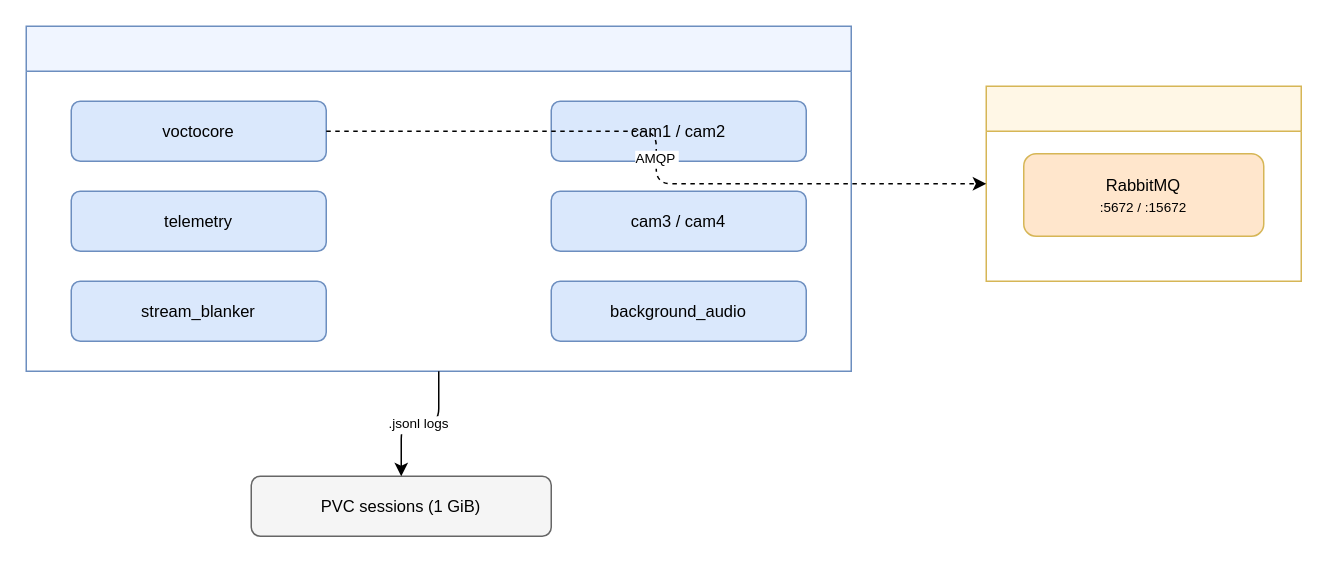
The diagram is 1328 pixels wide and 563 high, and some of its shapes have lost their labels. Each missing label, with the box of its shape:
Pod: rabbitmq: (985, 85, 1301, 281)
Pod: studio: (25, 25, 851, 371)
